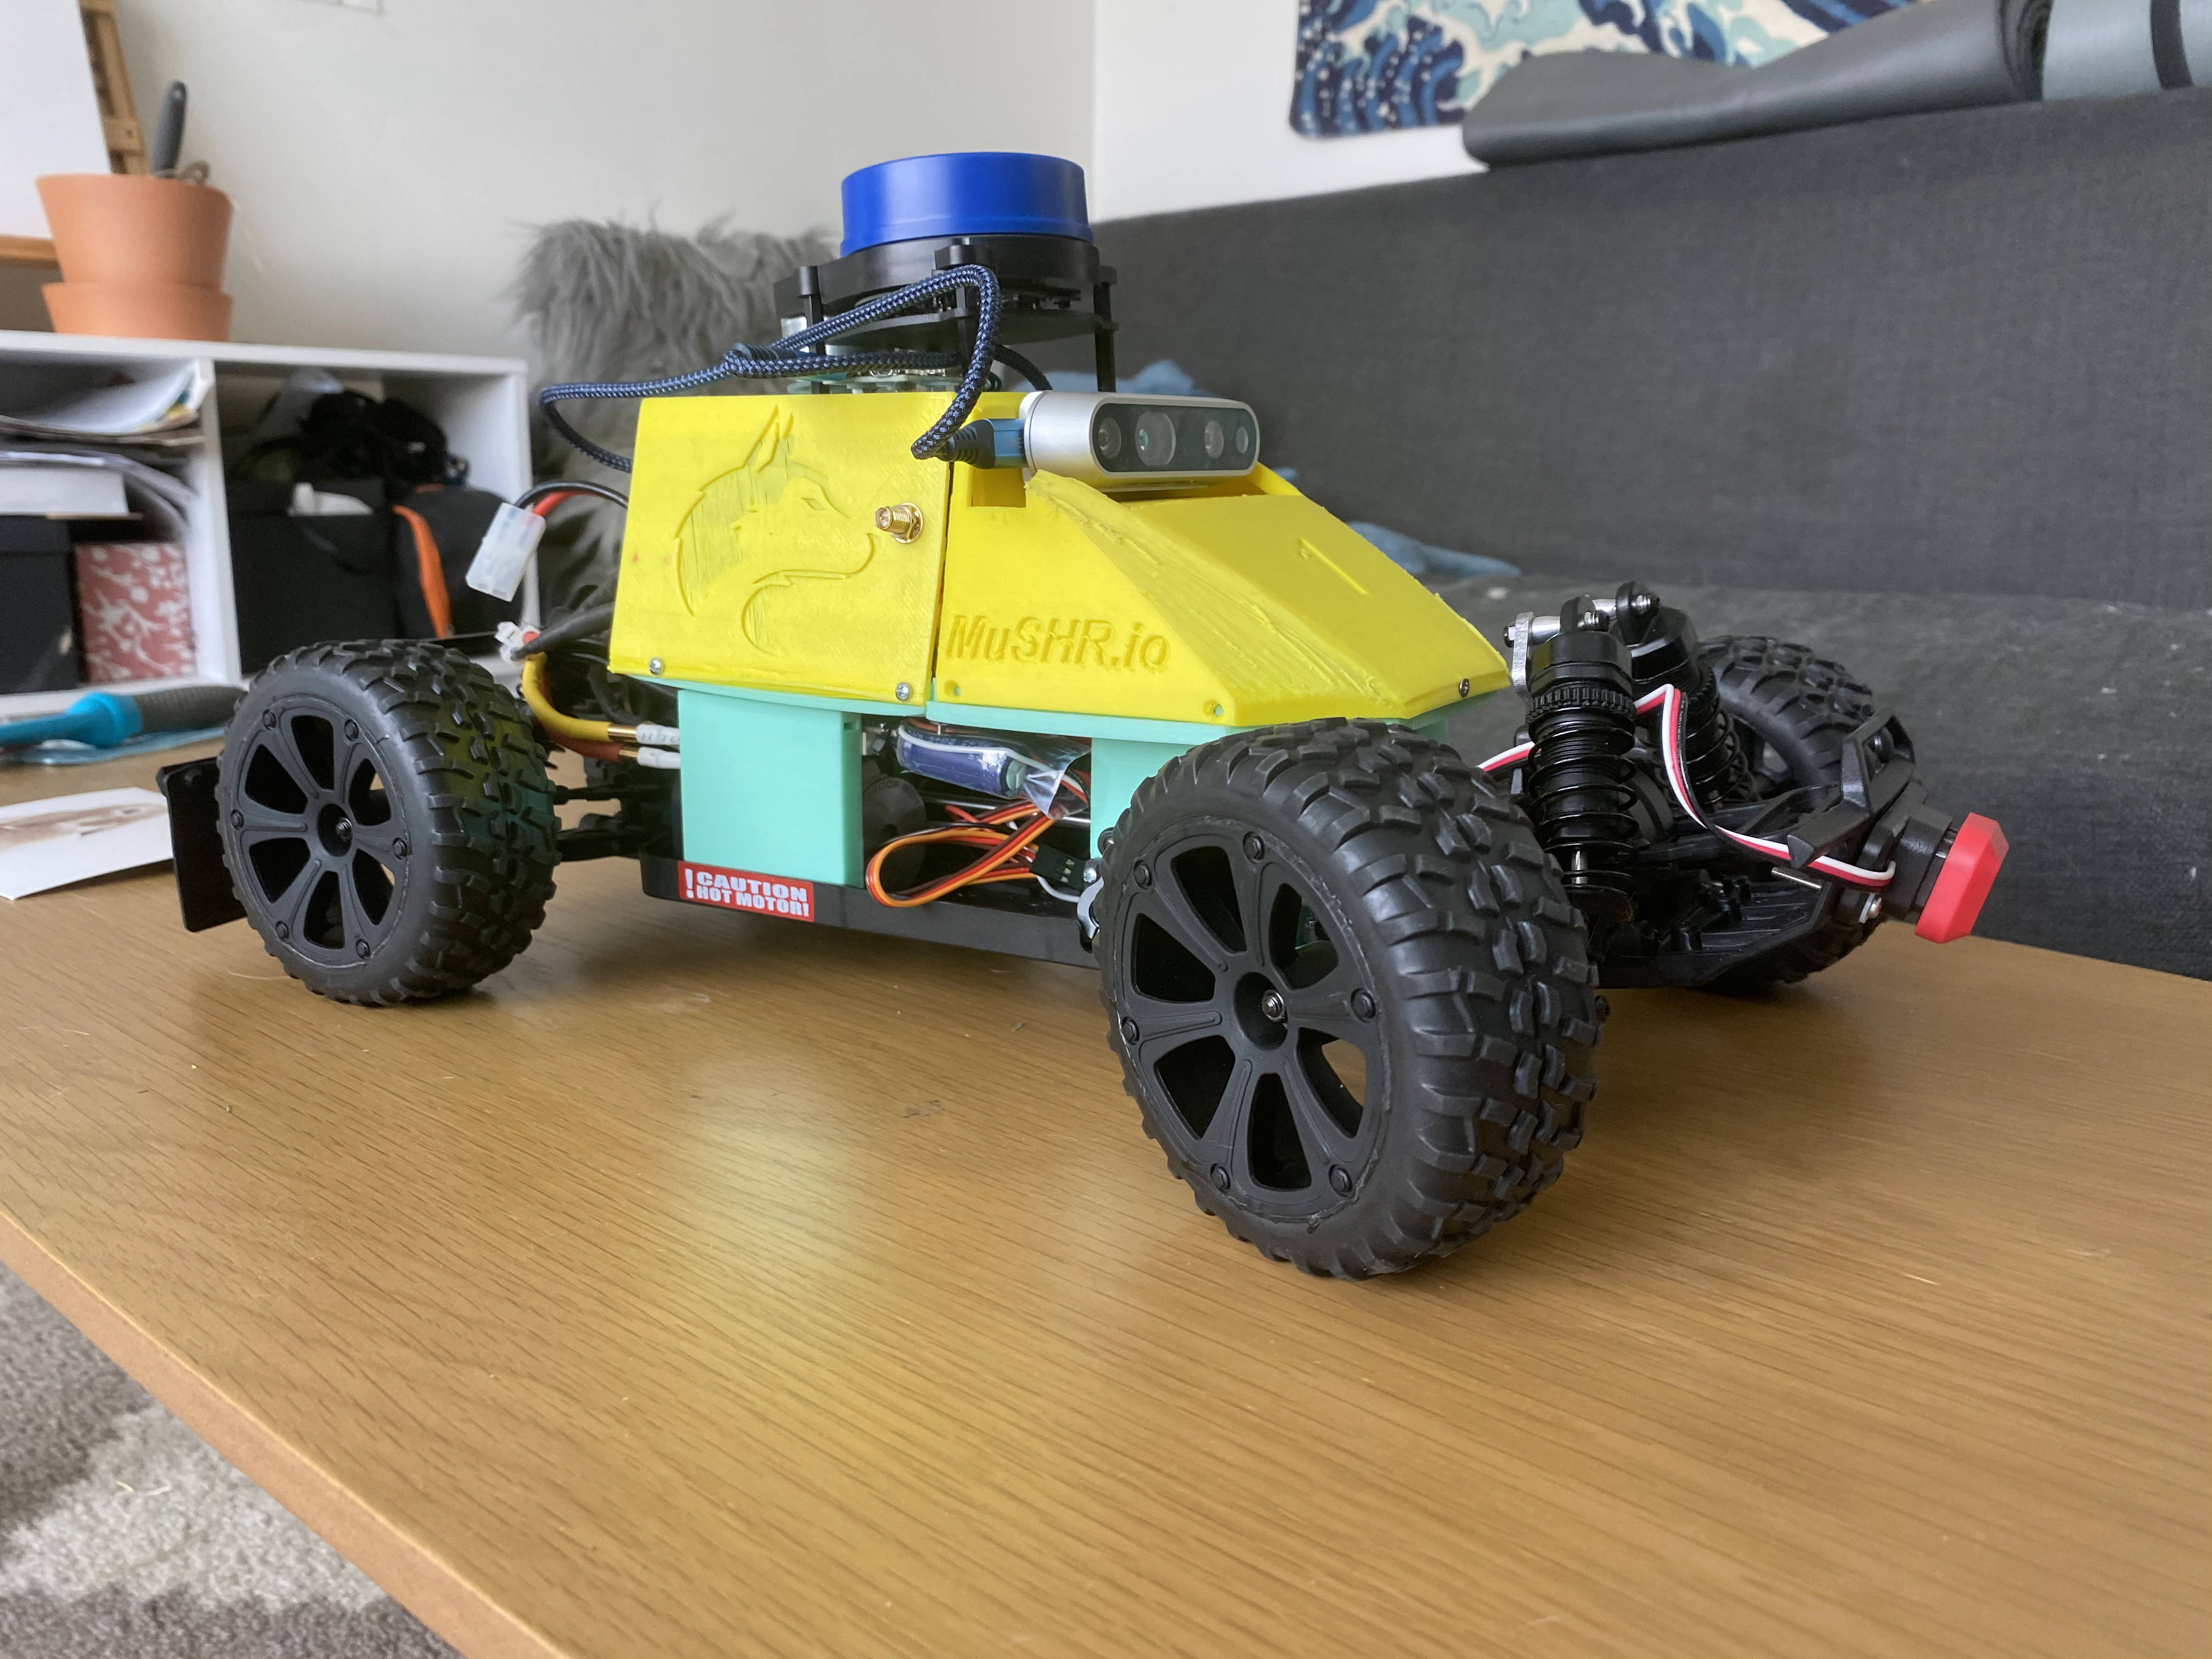mushr_car: (143, 141, 2003, 1307)
